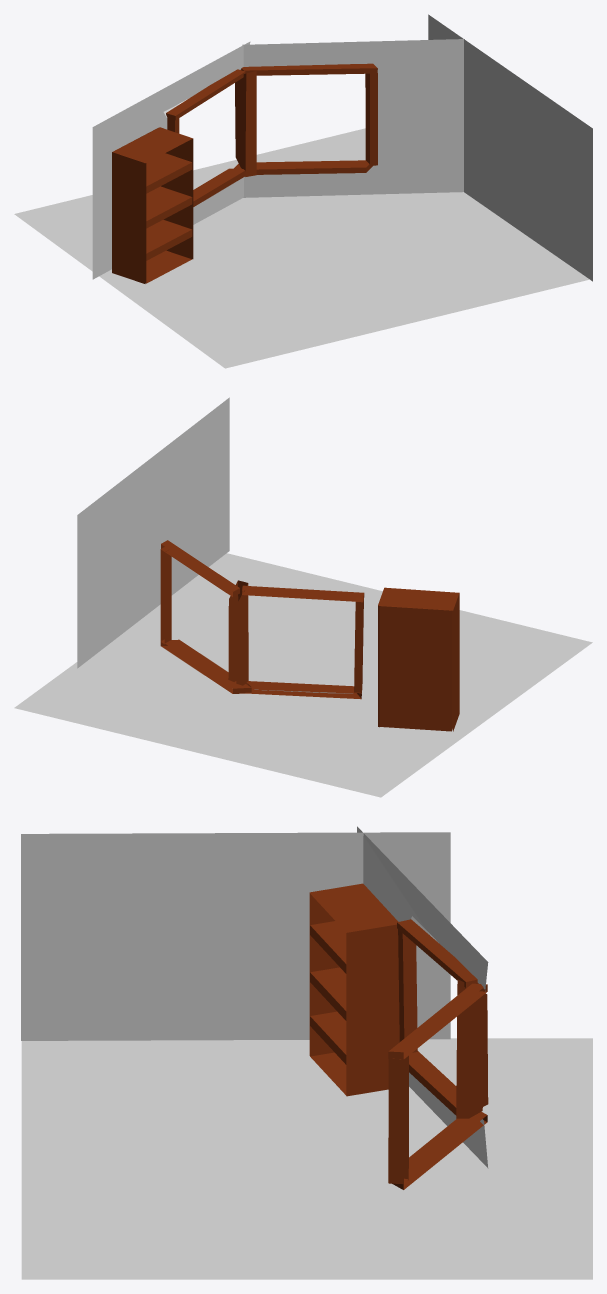
File: portfolio2026v2.glb
3 renders of one model, top to bottom at view 1: azimuth 30°, elevation 25°; view 2: azimuth 150°, elevation 25°; view 3: azimuth 270°, elevation 25°, orthographic. The views are drawn at different scales.
Parts seen in each view (by area): view 1: floor, rightWall, rightEndWall, leftEndWall, lw, Library, Library.001, Cube.001; view 2: floor, rightWall, Library, lw, Cube.001, Library.001; view 3: floor, leftWall, Library.001, lw, leftEndWall, Library, Cube.001.
Boxes of the visible parts, bbox=[...] form: floor: bbox=[14, 128, 589, 368]; rightWall: bbox=[428, 14, 592, 281]; rightEndWall: bbox=[242, 39, 464, 197]; leftEndWall: bbox=[92, 41, 250, 279]; lw: bbox=[234, 63, 377, 176]; Library: bbox=[145, 139, 192, 283]; Library.001: bbox=[112, 127, 193, 283]; Cube.001: bbox=[166, 69, 245, 206]; floor: bbox=[14, 553, 592, 797]; rightWall: bbox=[77, 397, 229, 668]; Library: bbox=[379, 606, 452, 731]; lw: bbox=[160, 540, 251, 693]; Cube.001: bbox=[239, 585, 364, 699]; Library.001: bbox=[378, 587, 459, 731]; floor: bbox=[21, 1038, 592, 1279]; leftWall: bbox=[21, 832, 450, 1040]; Library.001: bbox=[309, 883, 399, 1096]; lw: bbox=[388, 979, 488, 1189]; leftEndWall: bbox=[357, 826, 488, 1168]; Library: bbox=[310, 893, 346, 1095]; Cube.001: bbox=[397, 919, 478, 1115].
Bounding box in the file's own units: 20.47 × 8.03 × 20.28.
